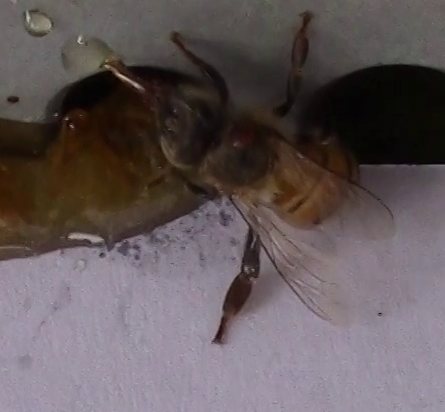Varroa destructor: (225, 120, 260, 151)
